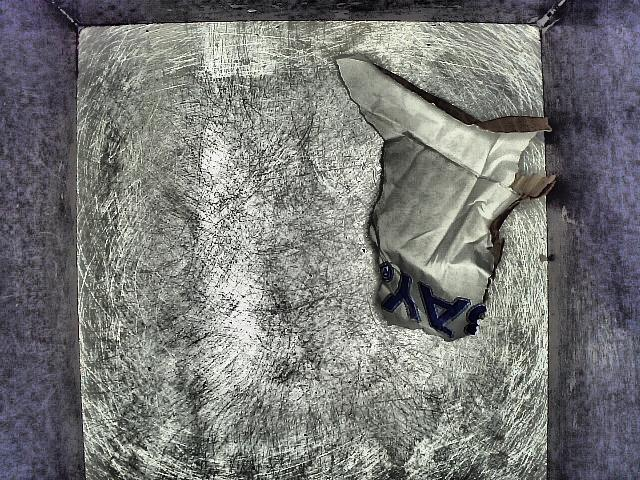Paper: (318, 41, 570, 397)
